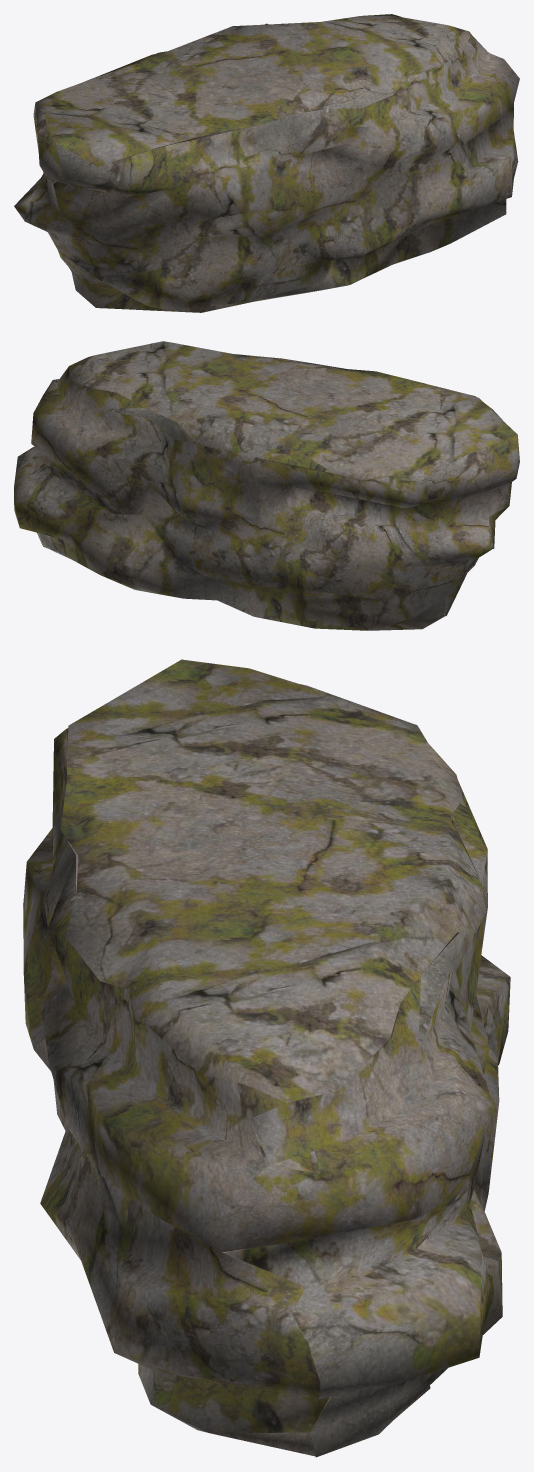
3 renders of one model, top to bottom at view 1: azimuth 30°, elevation 25°; view 2: azimuth 150°, elevation 25°; view 3: azimuth 270°, elevation 25°, orthographic. The views are drawn at different scales.
Visible parts, largest first — view 1: Cube.057; view 2: Cube.057; view 3: Cube.057.
Boxes of the visible parts, x1,y1,x2,y2 form: Cube.057: (14, 14, 519, 312); Cube.057: (14, 341, 519, 630); Cube.057: (23, 659, 510, 1457).
Size of the model in its own units: 11.24 by 4.36 by 4.99.
1 material, 1 textured.
